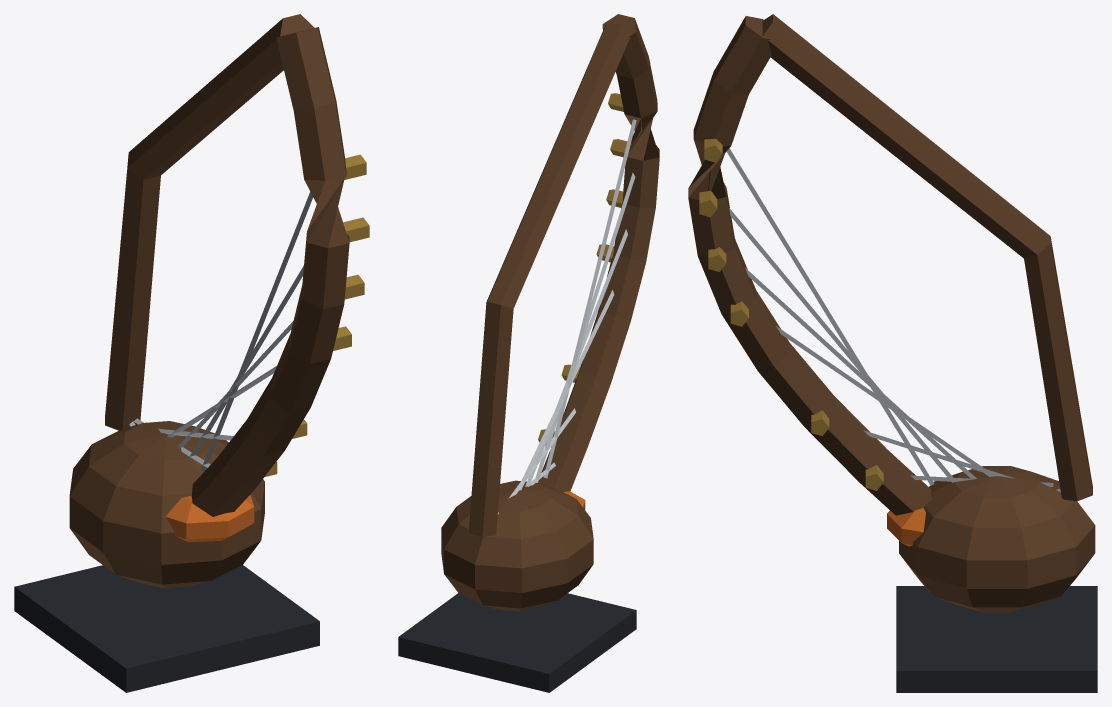
The model's file is xantha.glb.
3 renders of one model, left to right at view 1: azimuth 30°, elevation 25°; view 2: azimuth 150°, elevation 25°; view 3: azimuth 270°, elevation 25°, orthographic. The views are drawn at different scales.
Parts seen in each view (by area): view 1: m; view 2: m; view 3: m.
Boxes of the visible parts, x1,y1,x2,y2 form: m: (14,14,369,692); m: (398,14,659,692); m: (688,14,1097,692).
Size of the model in its own units: 0.0923 by 0.32 by 0.1877.
